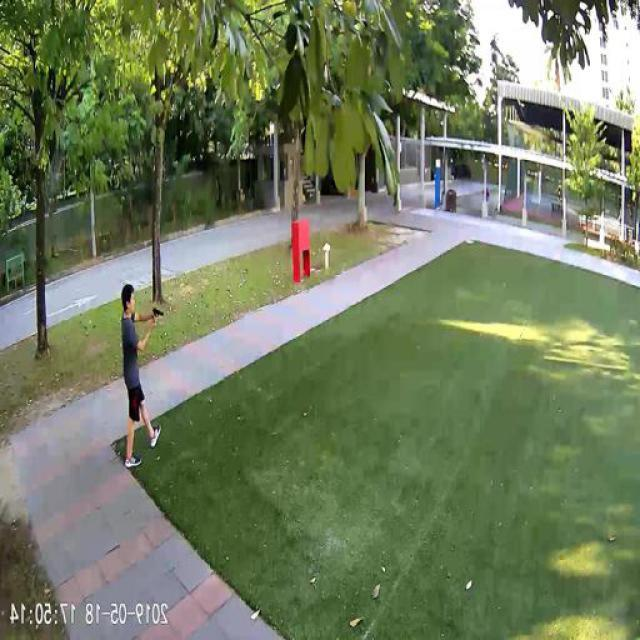weapon: (151, 306, 165, 322)
